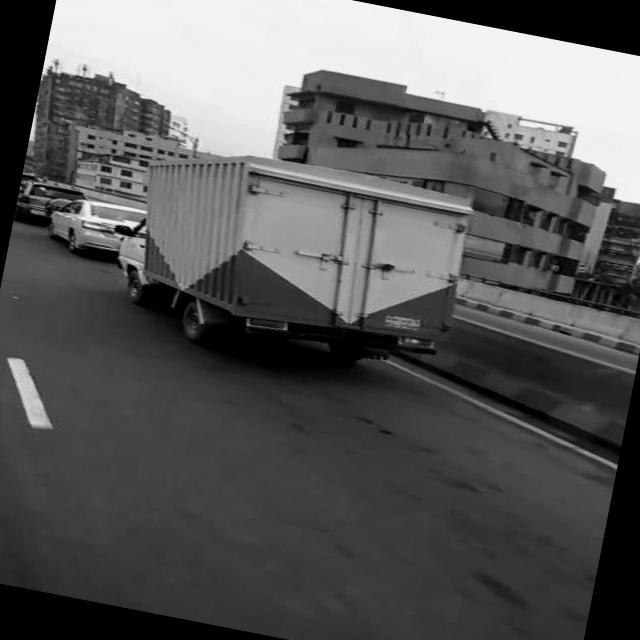car: (36, 190, 152, 270), (14, 178, 86, 230)
truck: (92, 124, 494, 400)
